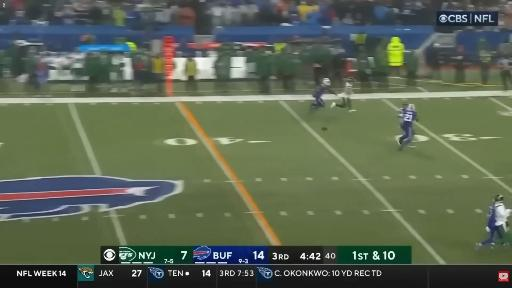Helmet: (494, 194, 503, 201), (402, 101, 409, 109), (323, 78, 330, 85), (407, 104, 415, 110), (348, 77, 354, 82)
Jersey: (401, 109, 417, 139), (400, 109, 417, 128), (495, 202, 508, 225), (312, 84, 332, 98), (487, 204, 496, 229), (399, 108, 406, 128), (344, 82, 353, 97), (398, 108, 405, 127)
Player: (476, 194, 510, 248), (476, 203, 502, 248), (310, 78, 337, 110), (399, 104, 417, 150), (495, 194, 511, 245), (331, 78, 355, 111), (398, 102, 408, 129)
